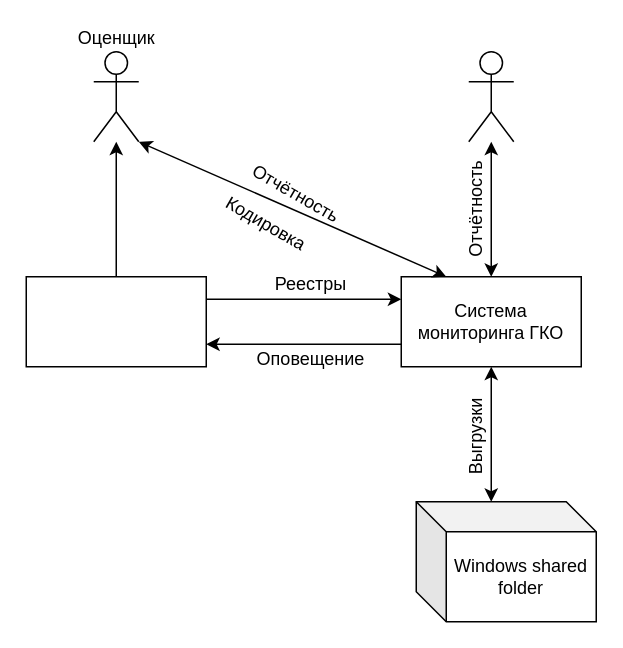
Image size: 623x648. Some labels were removed from this diagram. Here are the shapes that lost their labels. From the top down, the centre of each, then its label:
At [490,96]: "Руководство".
At [115,321]: "EMAIL сервер".
